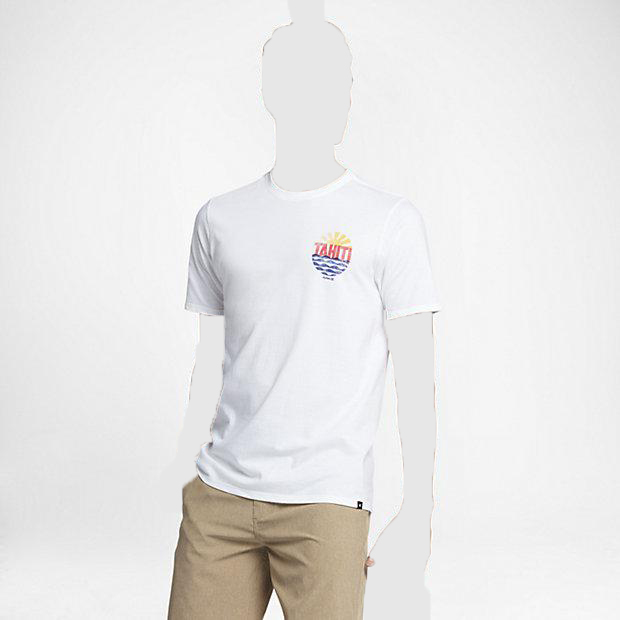teeshirt: (181, 170, 440, 517)
